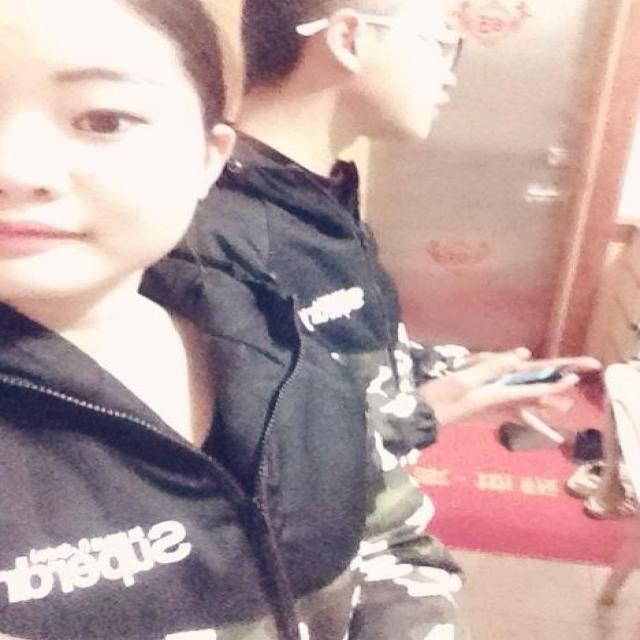long sleeve top: (3, 258, 457, 637), (189, 124, 427, 394)
